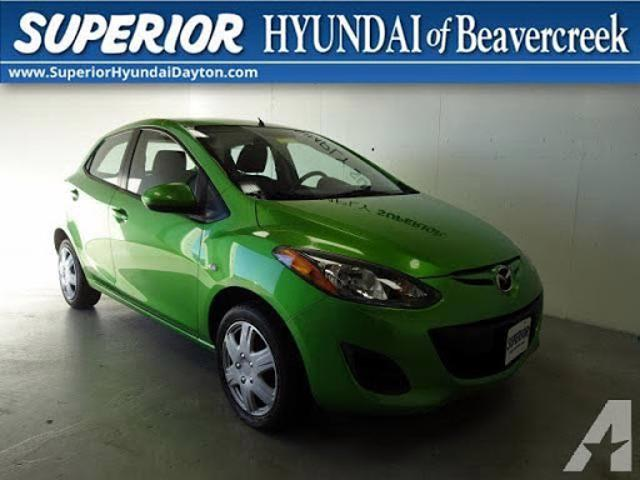Mazda3 Hatchback: (47, 110, 556, 435)
